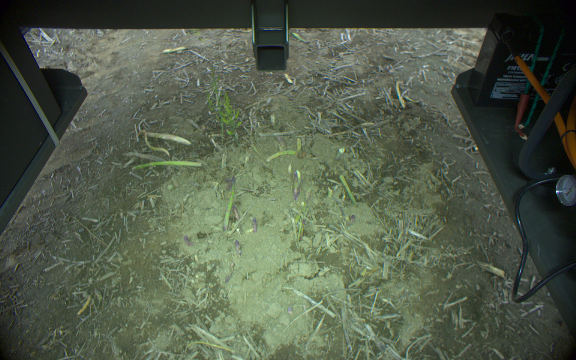aspa: (223, 173, 236, 230), (131, 159, 202, 169), (339, 174, 359, 207), (266, 150, 295, 163), (289, 169, 301, 200), (272, 133, 286, 153)
